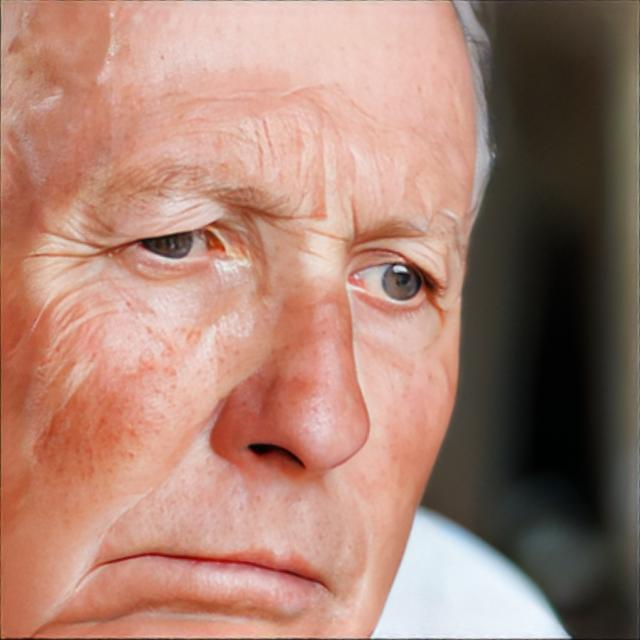sad: (0, 0, 481, 638)
